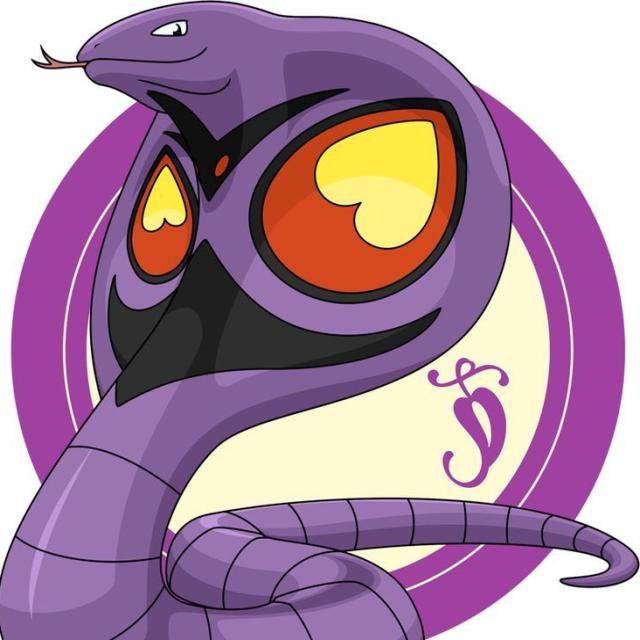Arbok: (0, 13, 494, 640)
